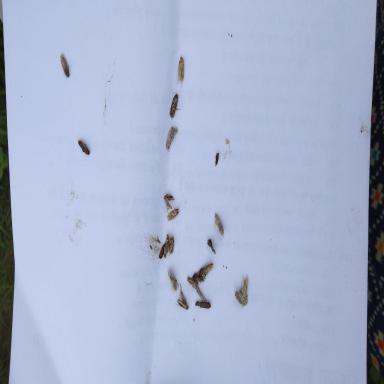pbw: (170, 92, 182, 118), (175, 289, 189, 310), (166, 126, 177, 152), (60, 52, 70, 78), (214, 211, 224, 237), (167, 268, 177, 292), (76, 139, 90, 156), (178, 54, 184, 89), (163, 193, 174, 212), (234, 290, 247, 306), (167, 206, 180, 222), (186, 276, 198, 289), (163, 234, 169, 259), (241, 276, 248, 297), (158, 242, 166, 260), (196, 286, 204, 302), (168, 235, 174, 256), (202, 264, 213, 274)
